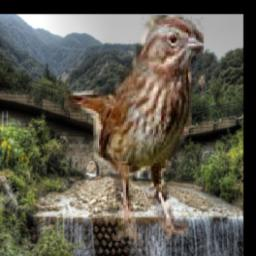Sparrow: (64, 15, 204, 241)
